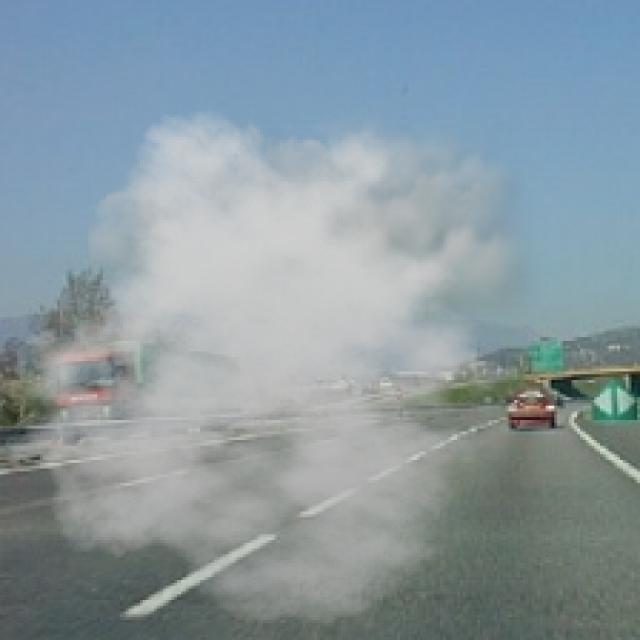smoke: (6, 94, 548, 626)
